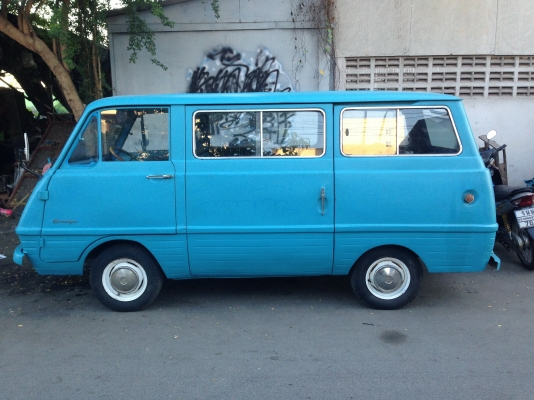van: (14, 90, 503, 309)
